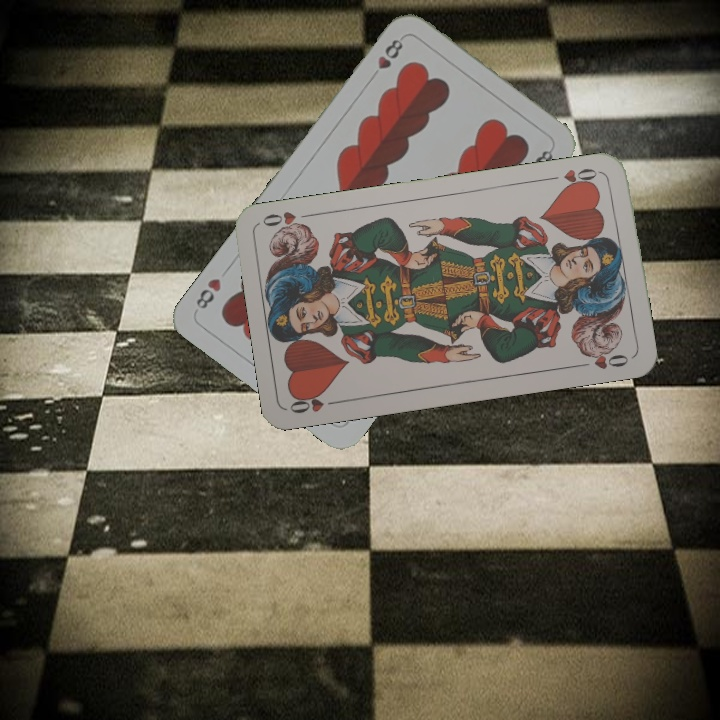H8: (373, 33, 406, 72)
HO: (545, 164, 604, 192), (286, 388, 345, 416)
